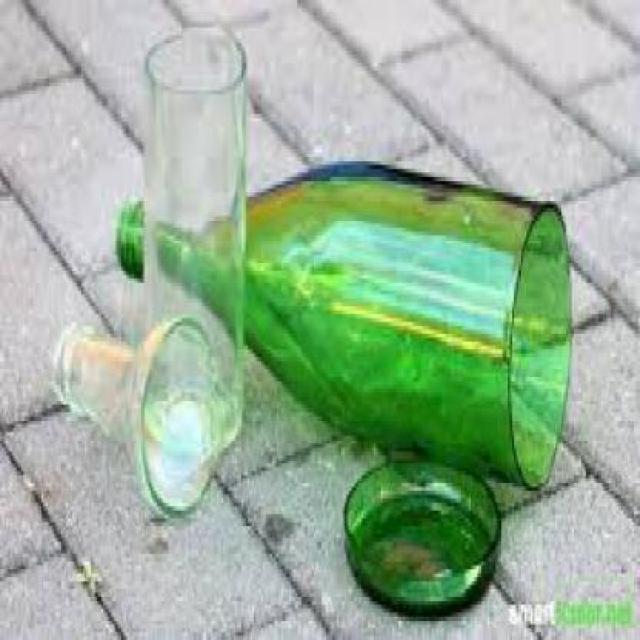kaca: (117, 162, 571, 490), (143, 23, 245, 455), (52, 311, 216, 514), (343, 456, 500, 612)
